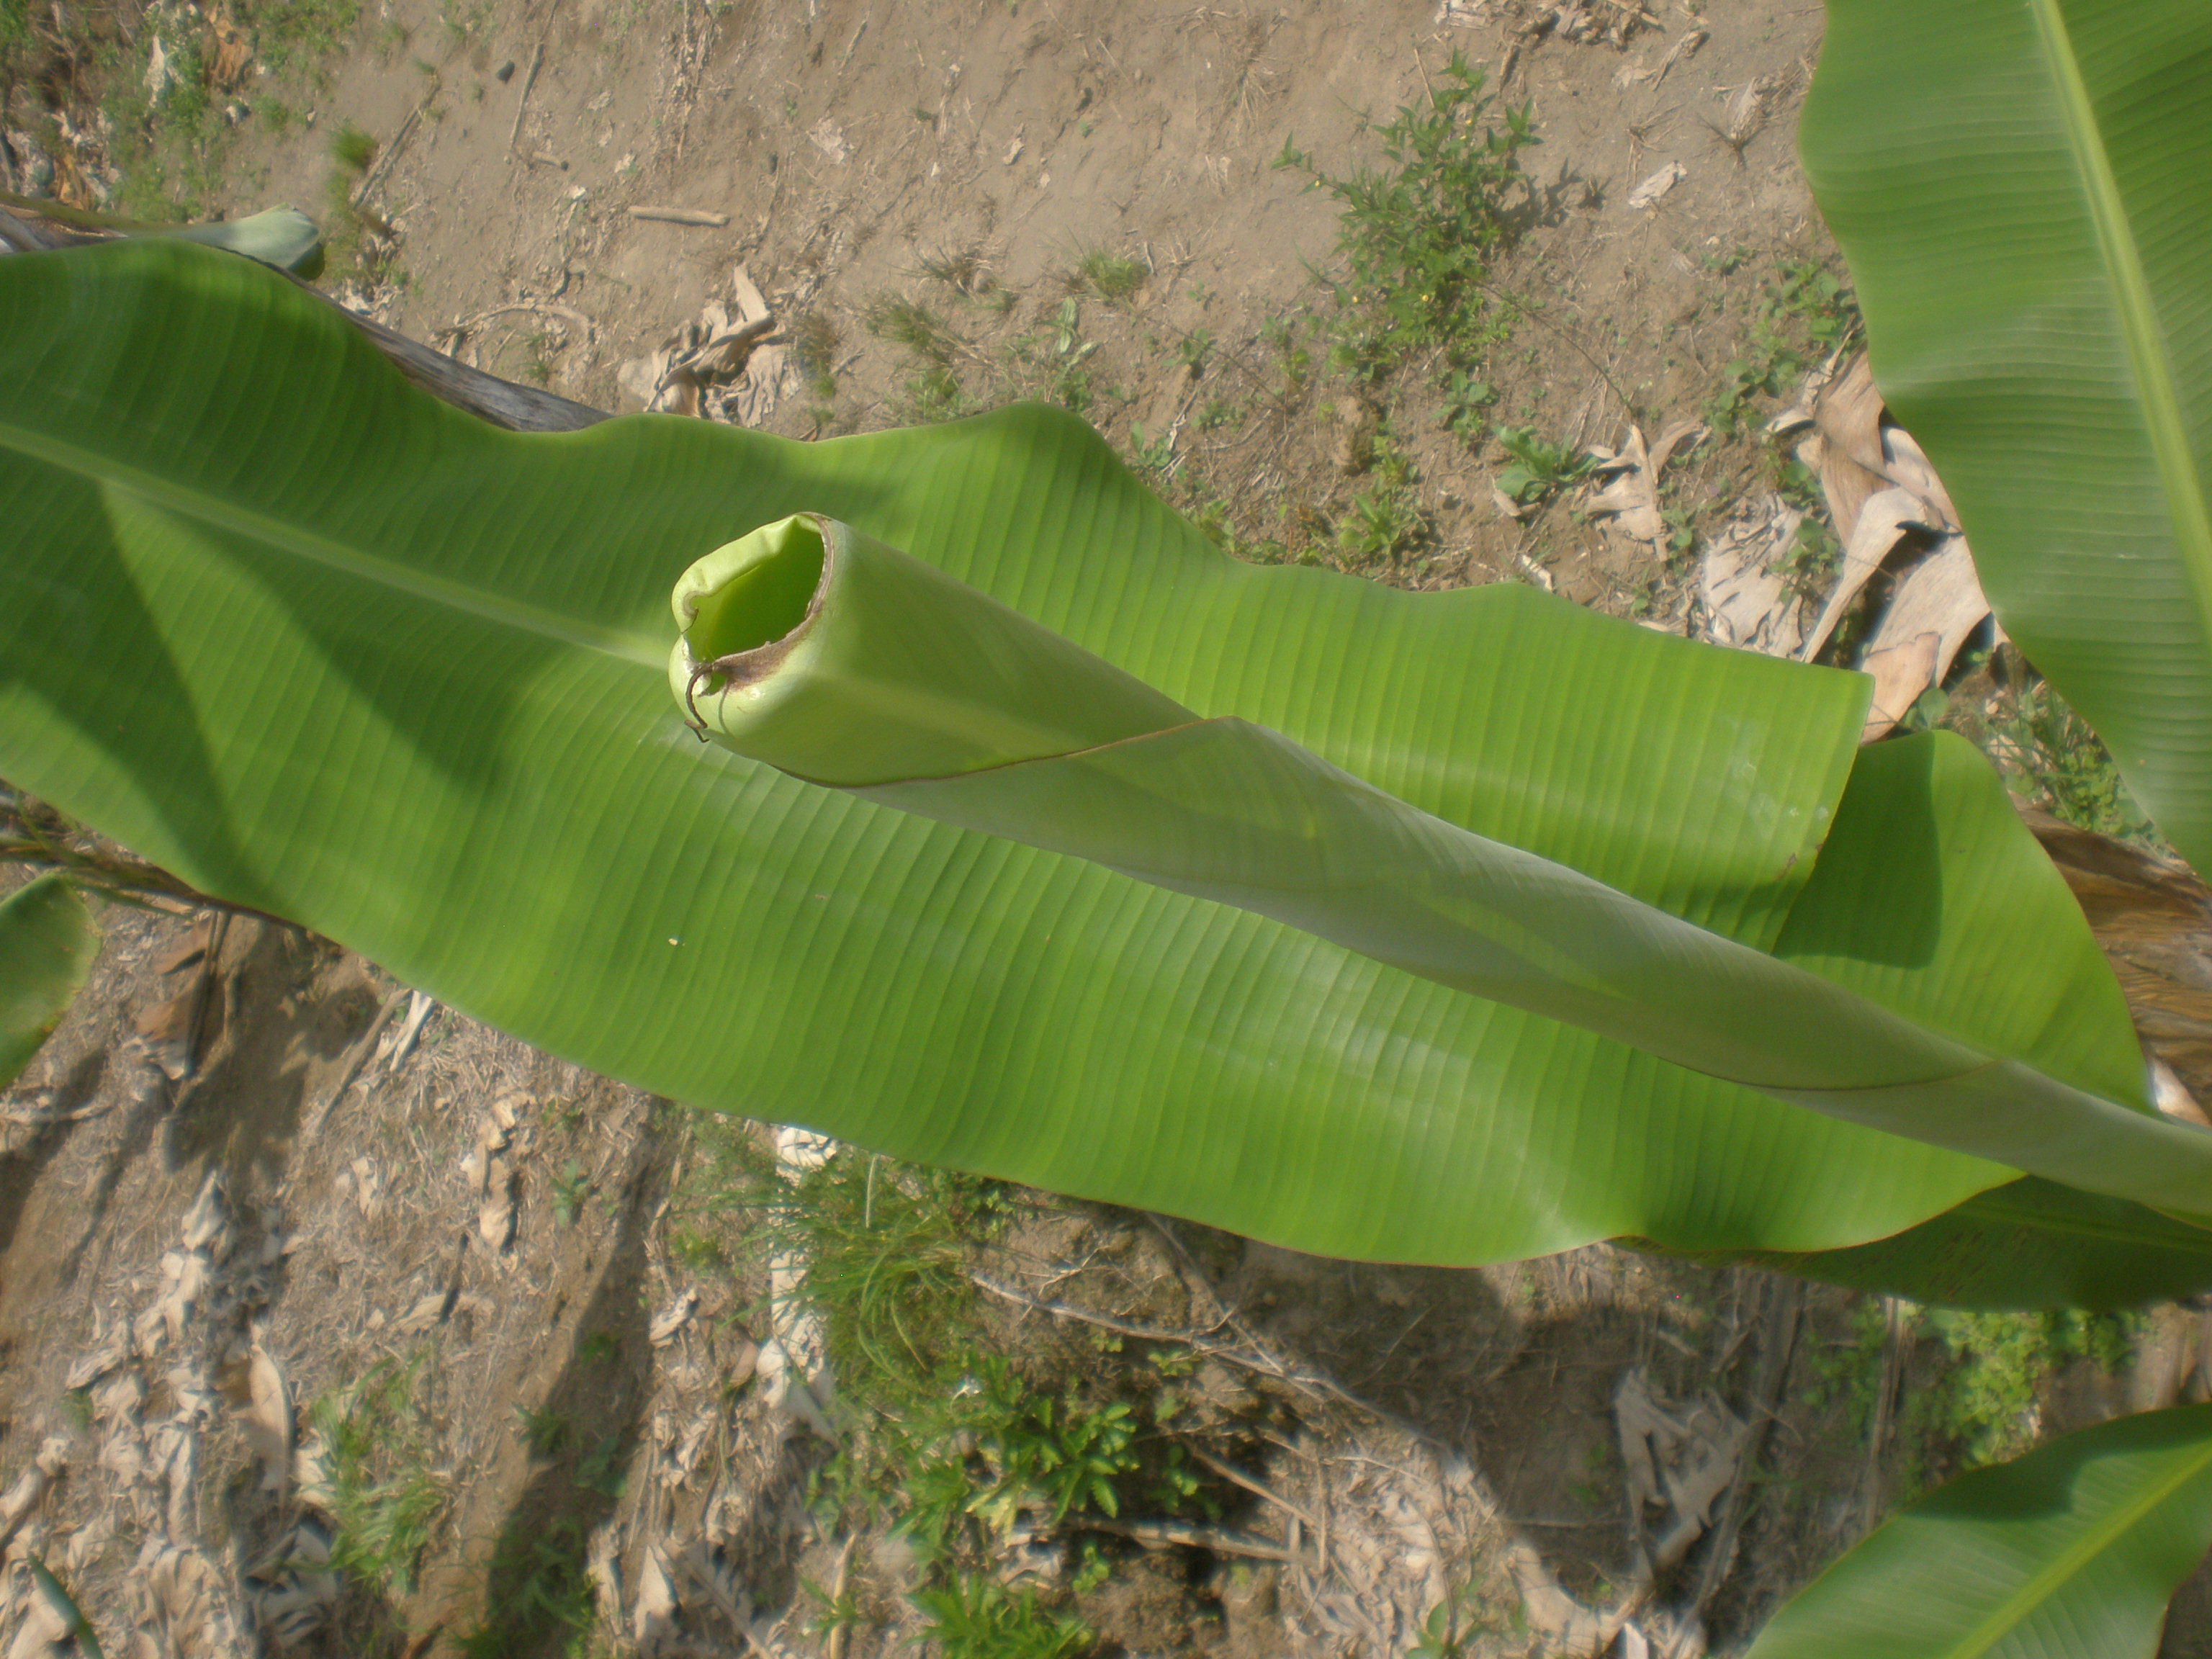candleleafs: (664, 507, 2212, 1223)
